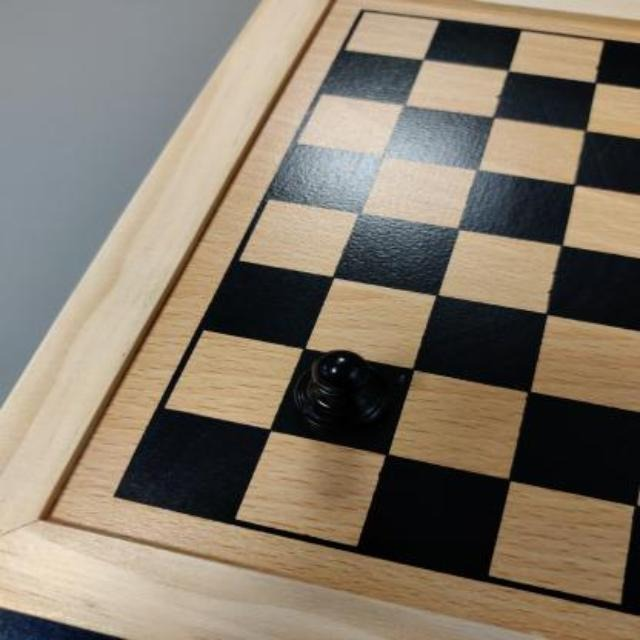black-pawn: (291, 349, 394, 435)
